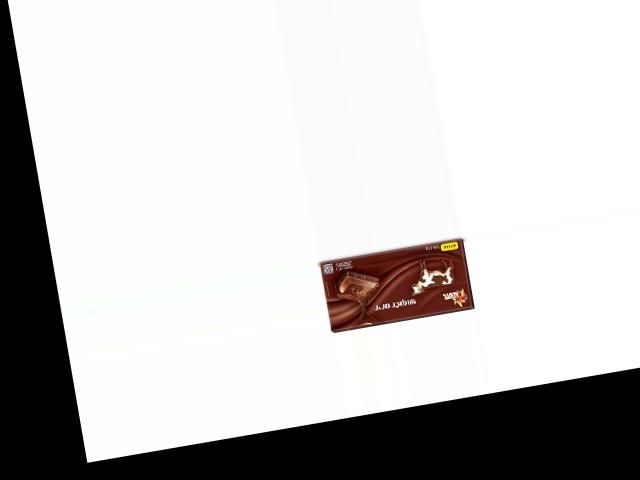chocolate: (321, 236, 478, 334)
